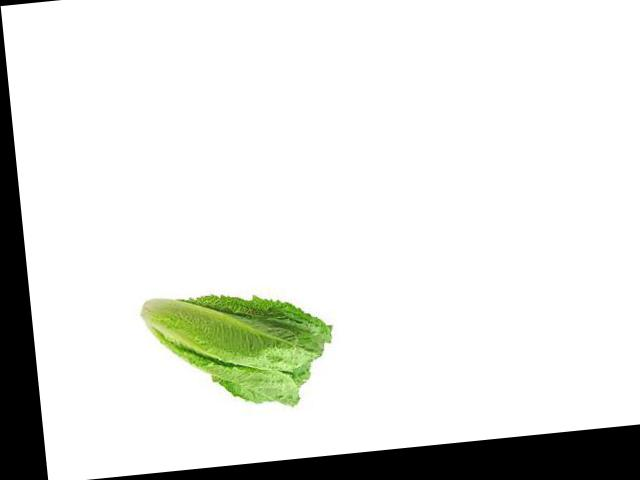lettuce: (153, 284, 325, 415)
